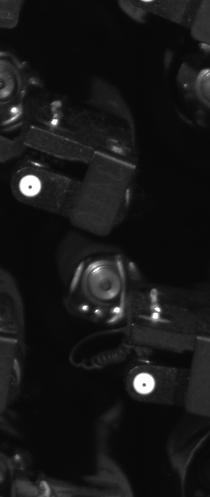fiber: (14, 168, 50, 202), (128, 370, 165, 400)
